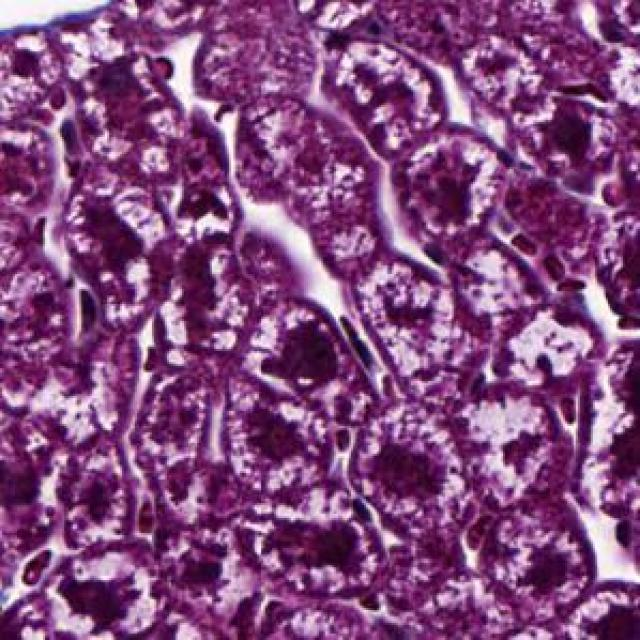inflammation: (246, 295, 355, 424), (407, 126, 503, 244)
